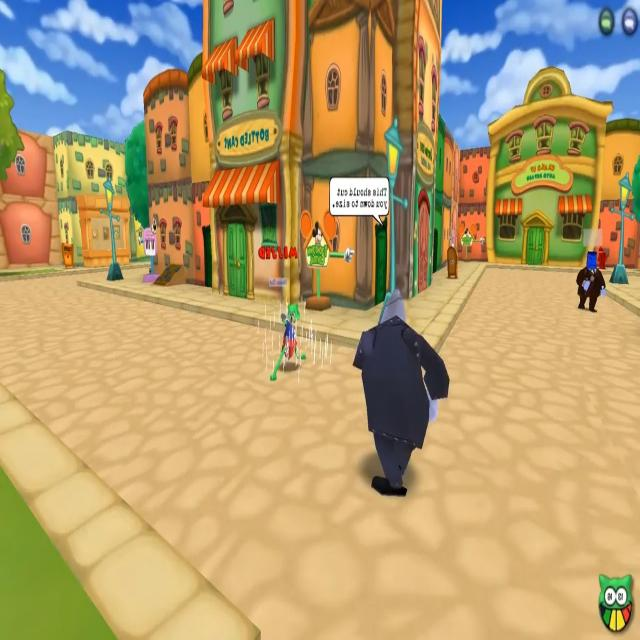bottomfeeder: (331, 174, 452, 494)
coldcaller: (570, 223, 609, 323)
